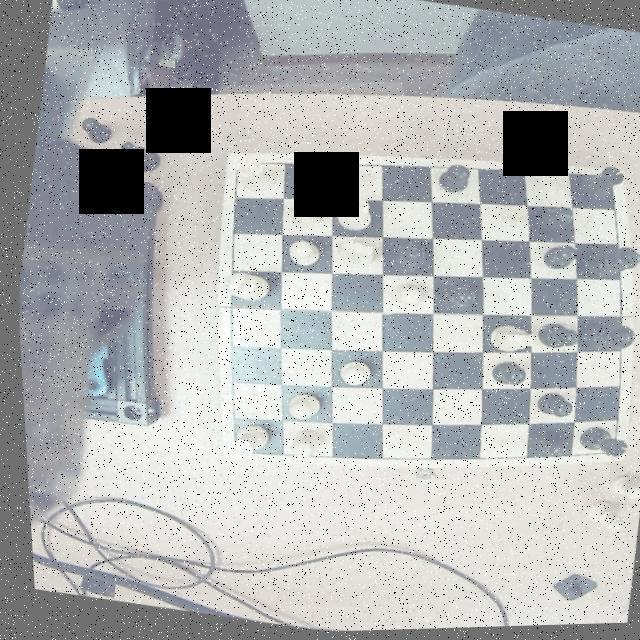chess-table-corners: (216, 434, 247, 464), (220, 153, 250, 181), (588, 169, 621, 193), (594, 439, 621, 465)
